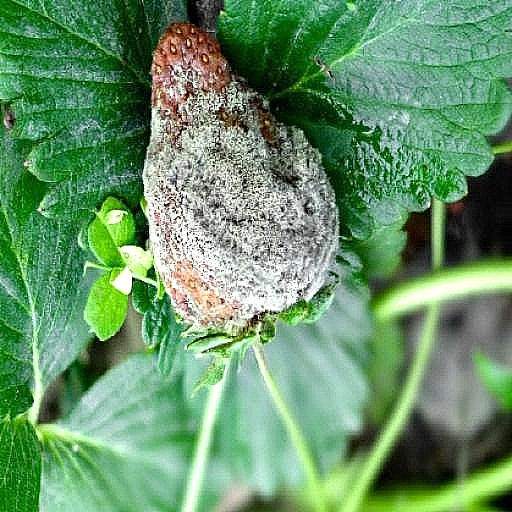Gray Mold: (140, 21, 342, 335)
